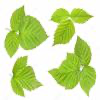Raspberry leaf: (47, 52, 81, 90), (18, 15, 49, 50), (16, 65, 44, 92), (51, 19, 75, 46), (79, 64, 96, 98), (74, 35, 92, 67), (10, 5, 26, 32), (4, 31, 19, 59), (70, 8, 94, 24), (49, 7, 70, 24), (12, 55, 28, 77), (10, 77, 26, 97)
